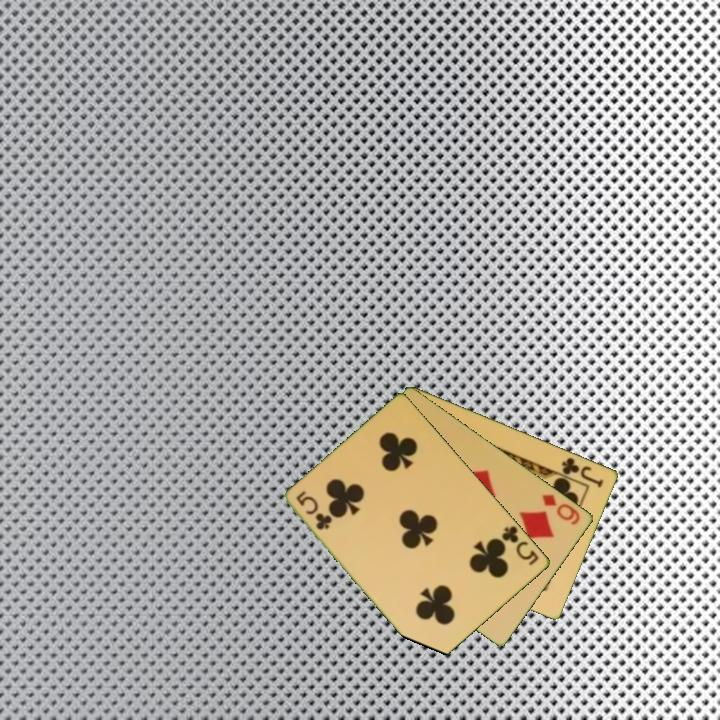5c: (498, 522, 542, 568), (293, 487, 335, 533)
6d: (539, 490, 583, 528)
Jc: (558, 454, 607, 490)
